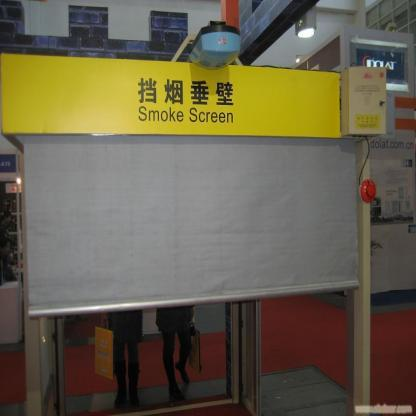other: (1, 52, 341, 144), (92, 324, 117, 378), (355, 168, 386, 208), (352, 111, 386, 138), (394, 95, 415, 127)
